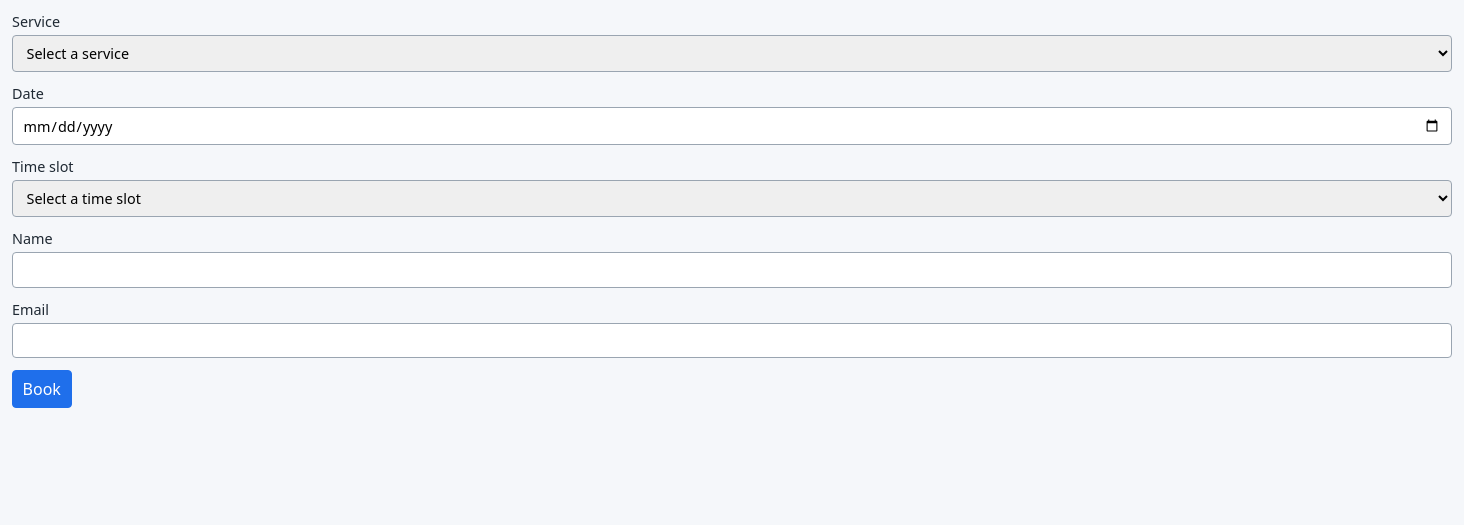
Scenario: BookingForm › shows the server error when the slot is already booked
The width and height of the screenshot is (1464, 525).
Select "Haircut (30 min, $25.00)" in the dropdown labelled "Service" at (732, 54), box [12,35,1452,72]
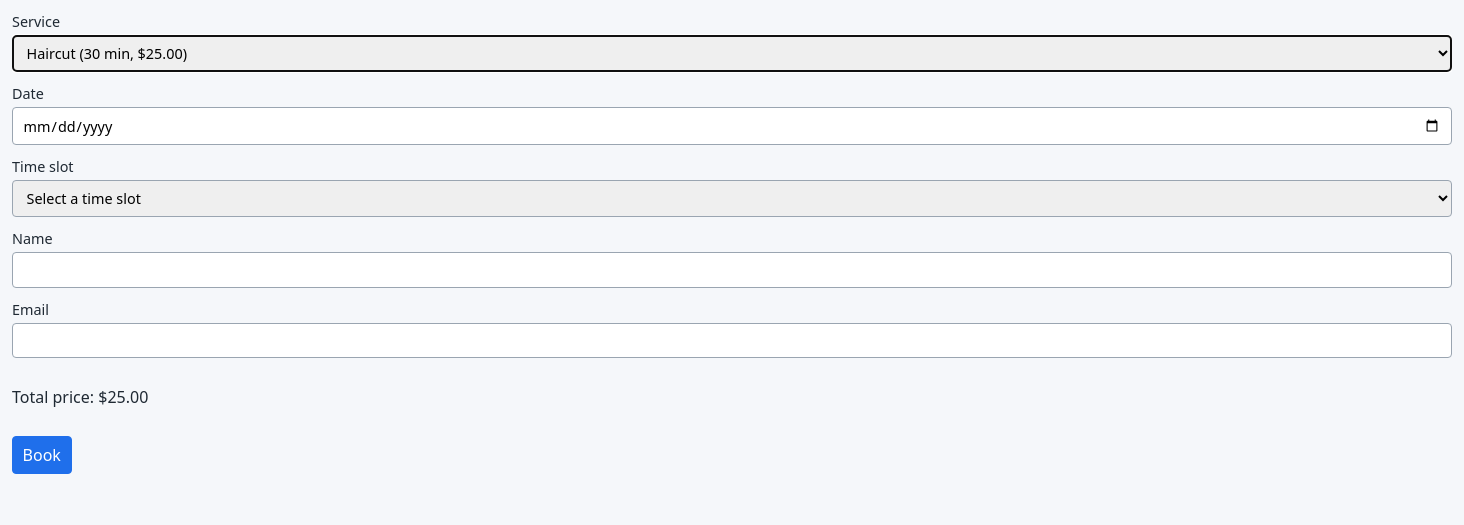
Type "2030-01-15" into the date field labelled "Date" at (732, 126), box [12,107,1452,145]
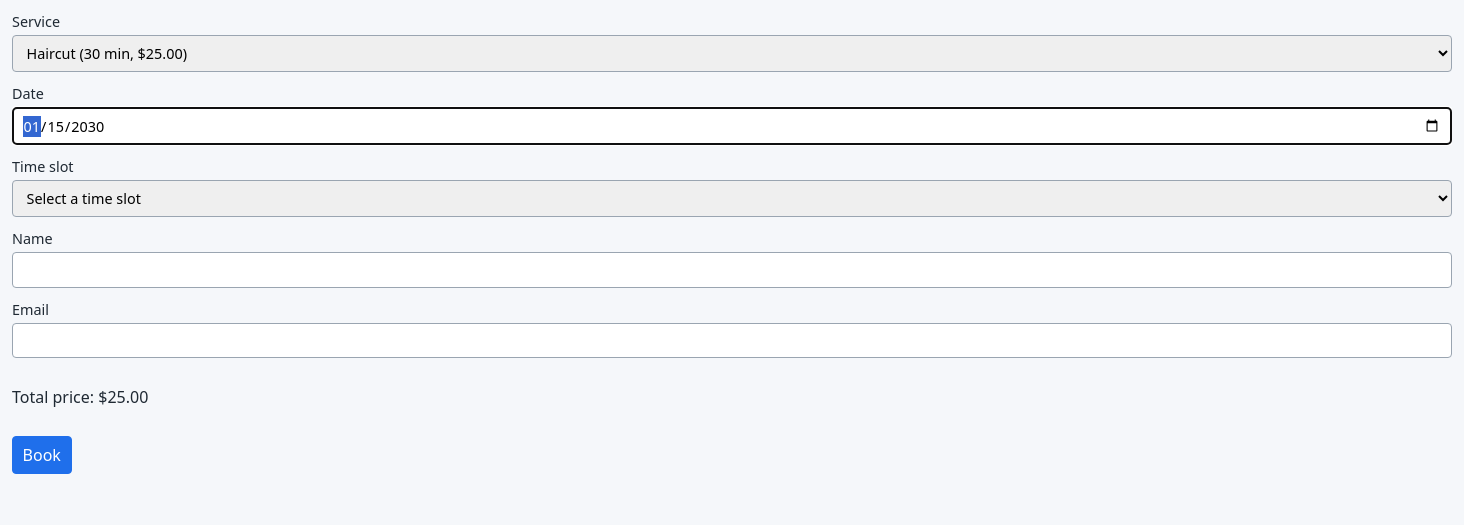
Select "10:00" in the dropdown labelled "Time slot" at (732, 198), box [12,180,1452,217]
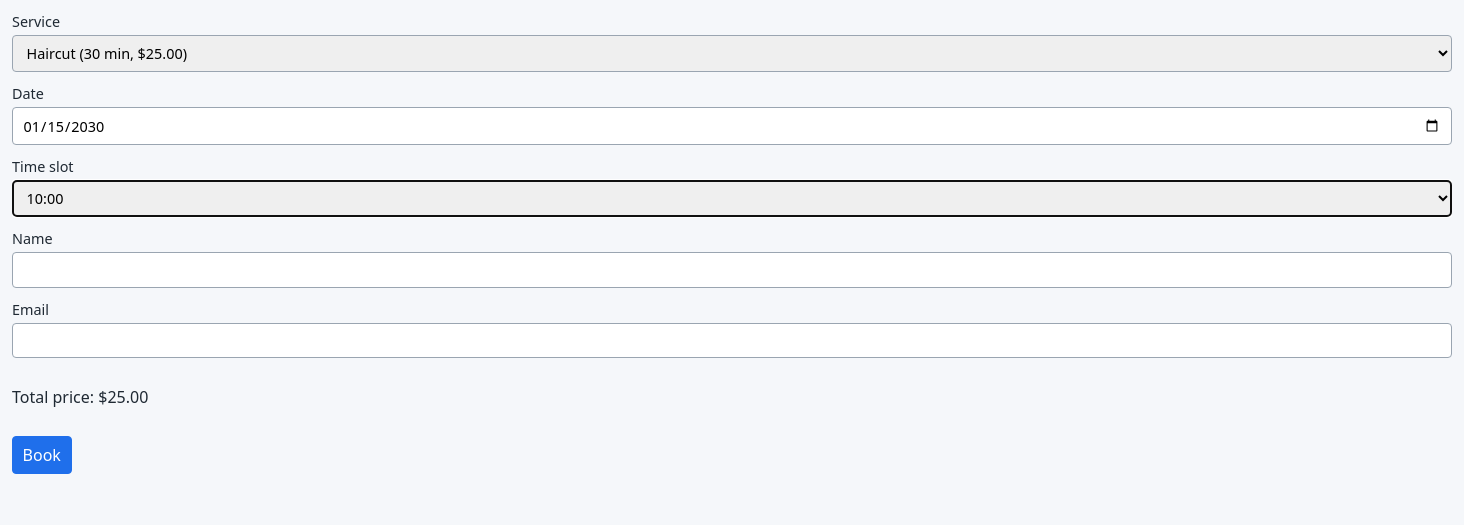
Type "Ada Lovelace" into the field labelled "Name" at (732, 270), box [12,252,1452,288]
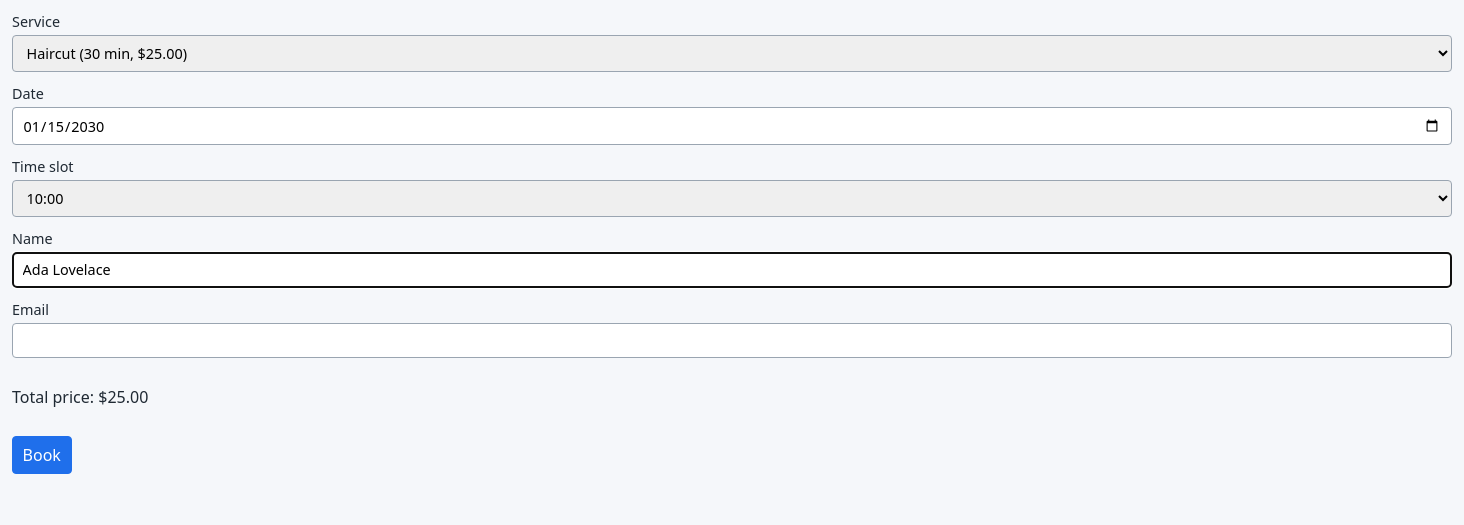
Type "ada@example.com" into the field labelled "Email" at (732, 340), box [12,322,1452,358]
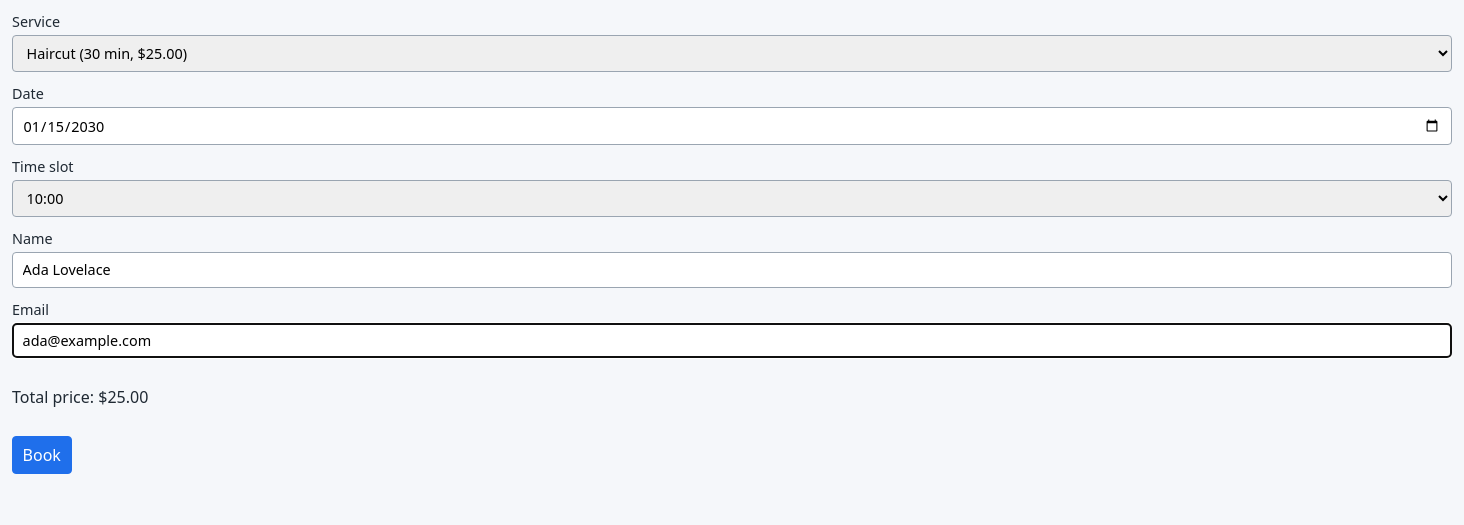
Click the button "Book" at (42, 455), box [12,436,72,474]
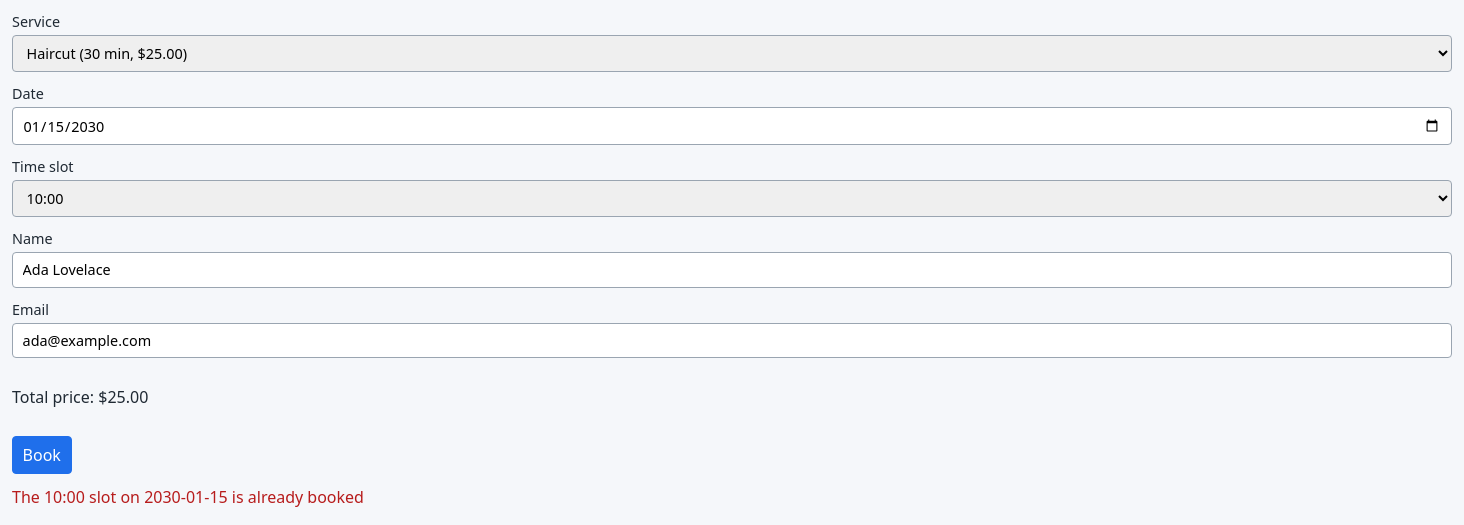
Result: the message reads "The 10:00 slot on 2030-01-15 is already booked" at [12,486,364,508]
